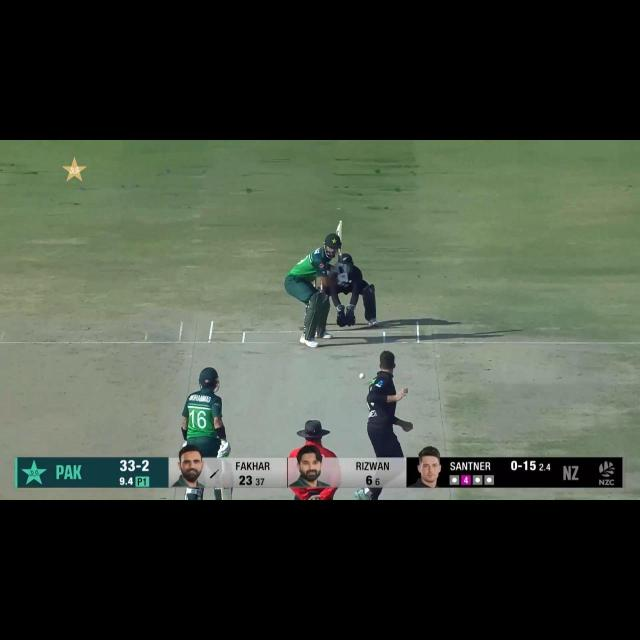bat: (335, 220, 345, 245), (220, 487, 232, 495)
toe: (218, 487, 234, 500), (336, 219, 344, 227)
